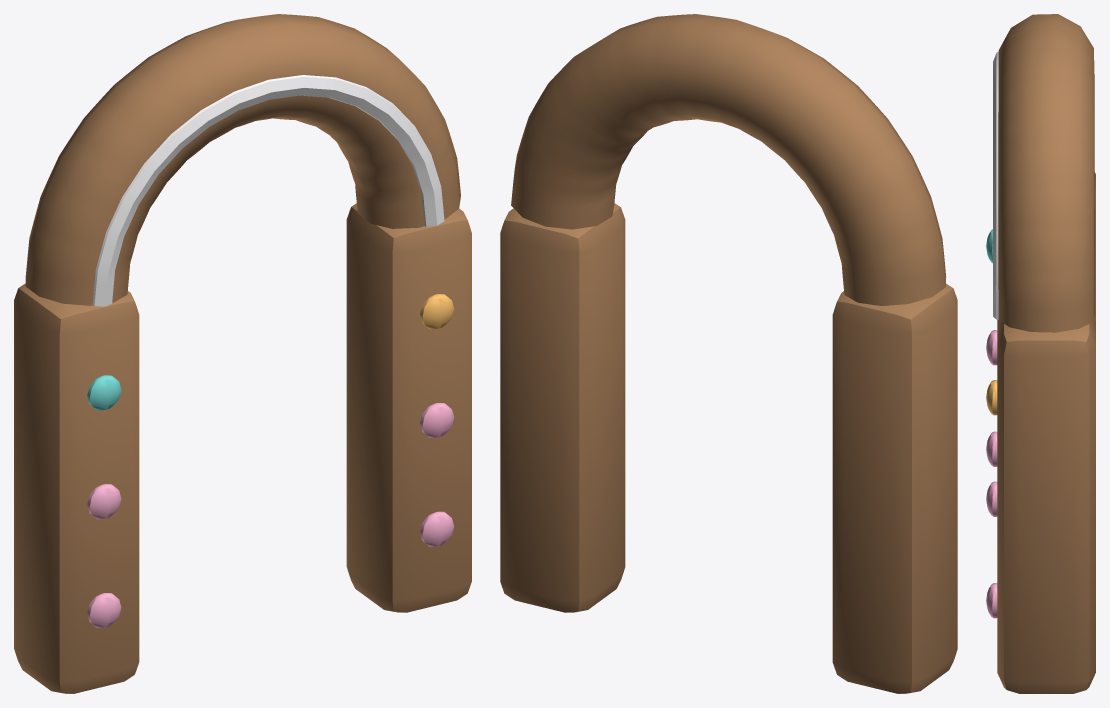
File: GingerArch.fbx
3 renders of one model, left to right at view 1: azimuth 30°, elevation 25°; view 2: azimuth 150°, elevation 25°; view 3: azimuth 270°, elevation 25°, orthographic. The views are drawn at different scales.
Parts seen in each view (by area): view 1: GingerArch; view 2: GingerArch; view 3: GingerArch.
Part boxes in pixels (box(x1,y1,x2,y2)): GingerArch: box(14, 14, 471, 693); GingerArch: box(500, 14, 957, 693); GingerArch: box(986, 14, 1095, 693).
Bounding box in the file's own units: 10.2 × 14.07 × 2.45.
